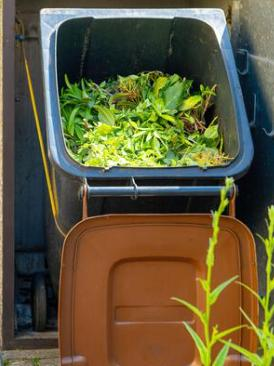organic: (203, 181, 228, 299), (116, 115, 176, 160), (254, 208, 274, 342), (178, 317, 211, 363), (110, 74, 143, 105), (199, 82, 216, 126), (149, 101, 177, 124), (86, 78, 112, 102), (66, 104, 83, 136), (94, 104, 116, 127), (128, 120, 156, 133), (80, 77, 93, 102), (217, 128, 224, 155)
